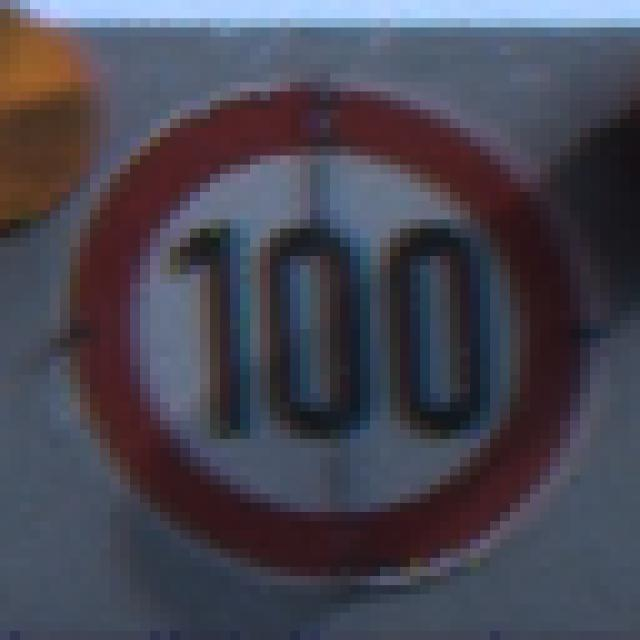speed limit 100: (44, 49, 607, 599)
